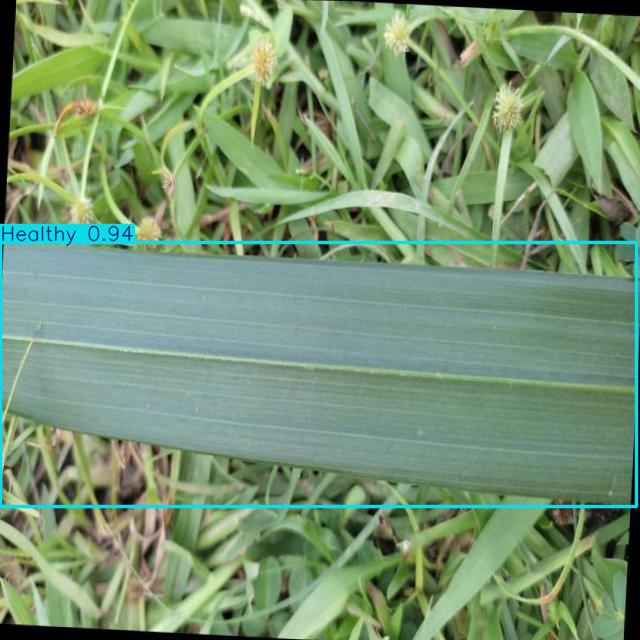Healthy: (0, 243, 636, 507)
